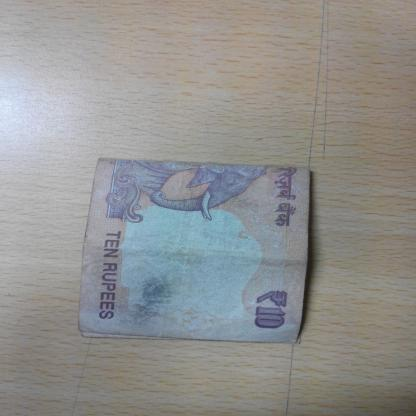Old10Back: (78, 157, 313, 344)
